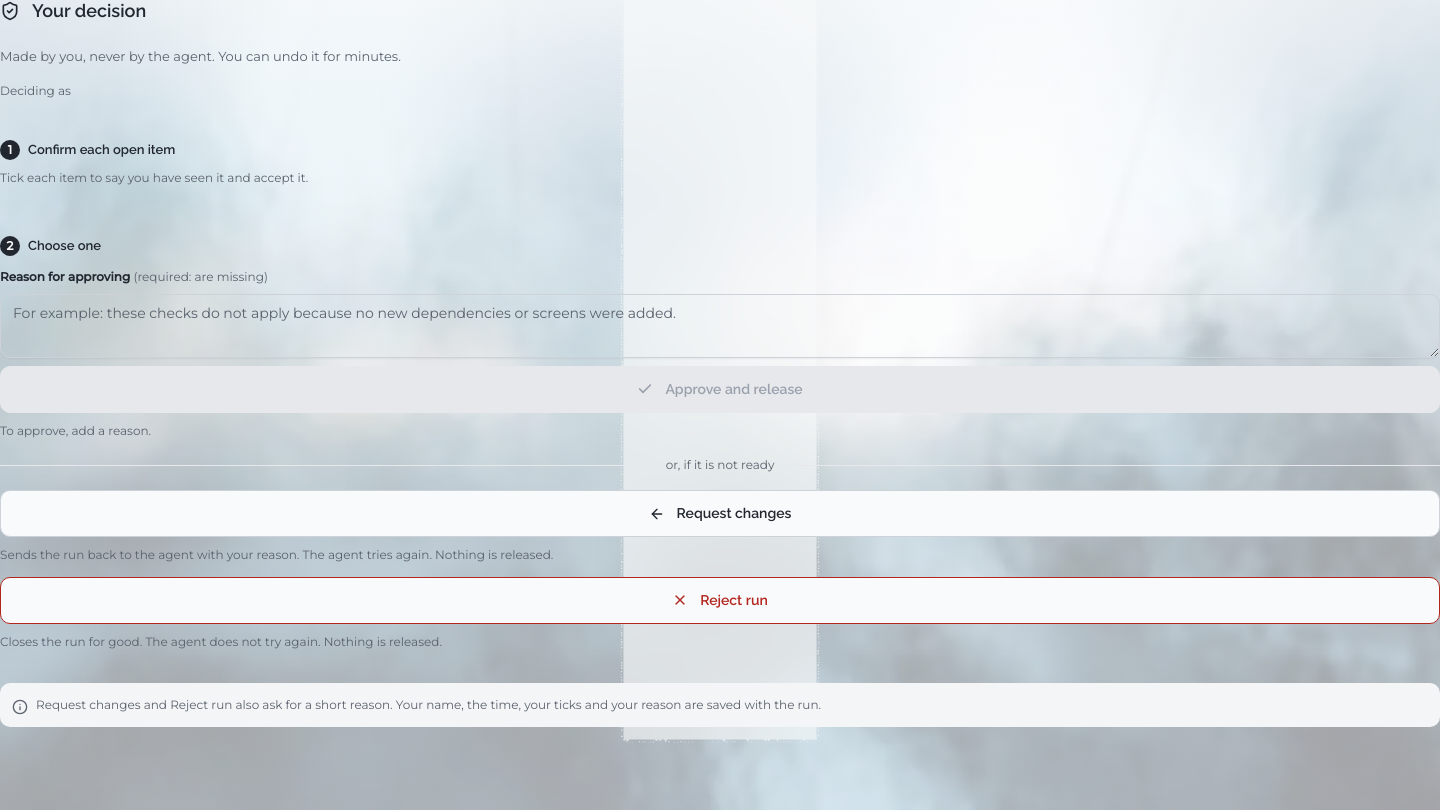
Scenario: DecisionPanel › opens the reason dialog for Request changes and Reject run
// Each confirmation opens a beat after the click, behind the icon's own pop (0090).
Step 1. Click the button "Request changes" → (720, 514), box [0,490,1439,537]
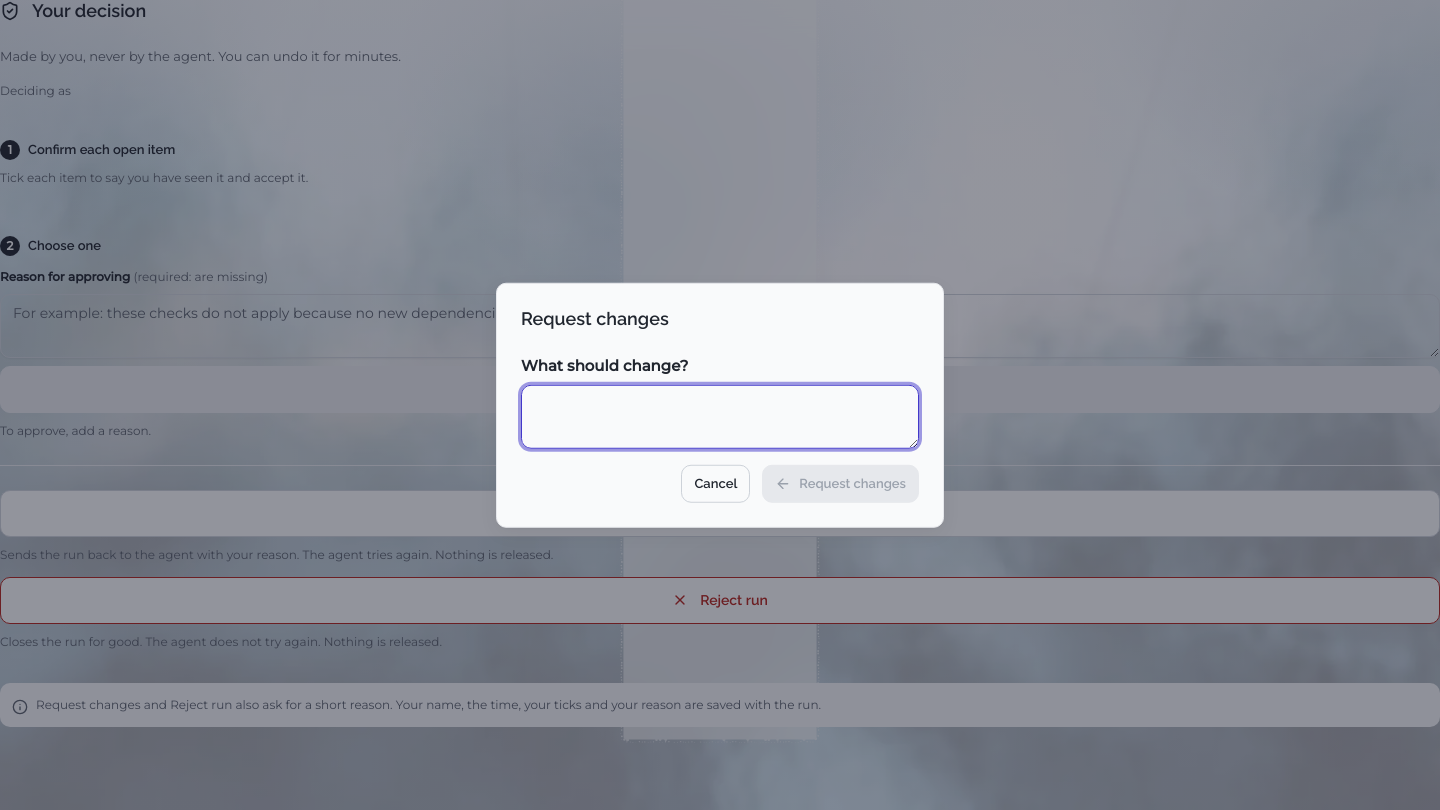
Expected: the text box labelled "What should change?" is shown, [521,385,919,449]
Step 2. Click the button "Cancel" → (716, 484), box [682,465,750,502]
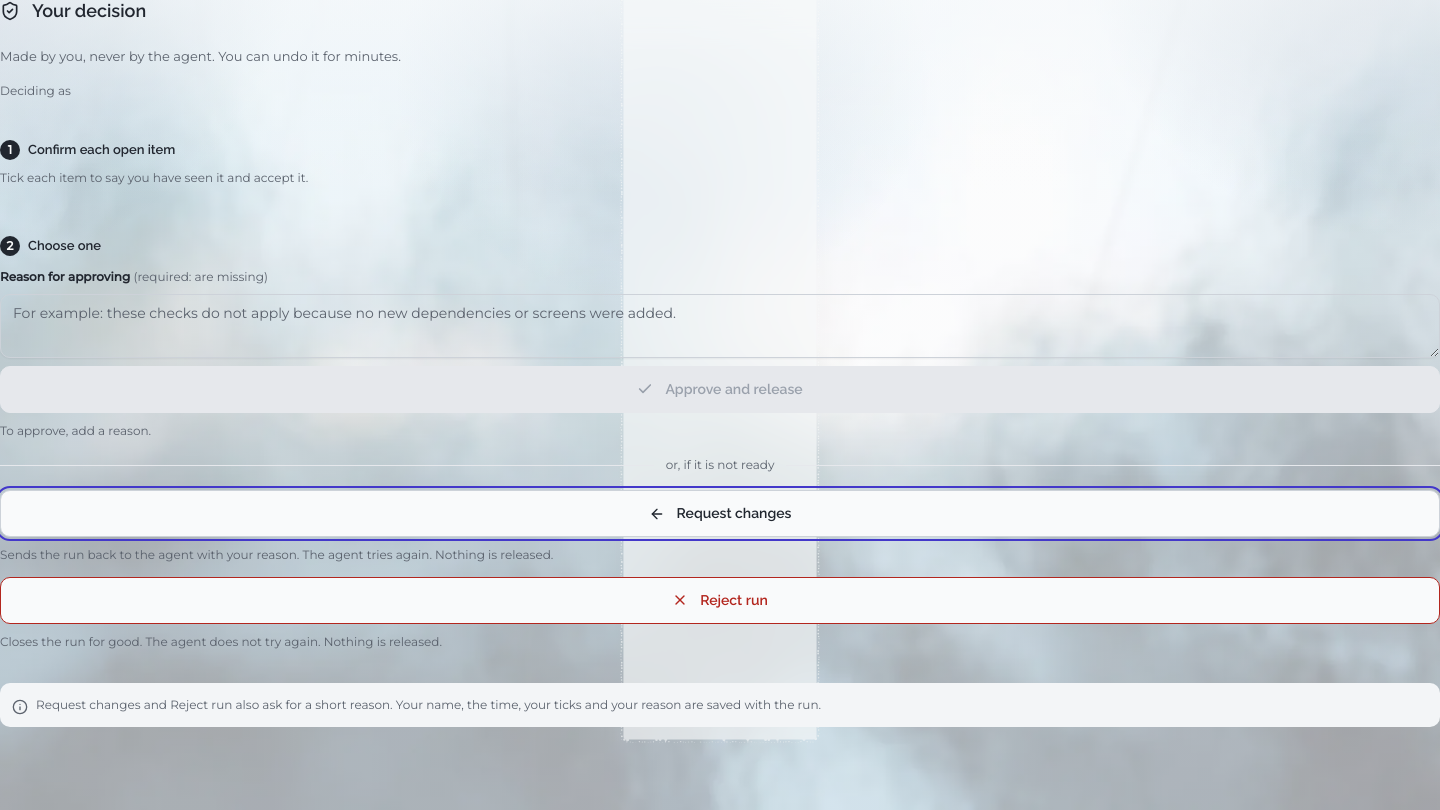
Step 3. Click the button "Reject run" → (720, 600), box [0,576,1439,624]
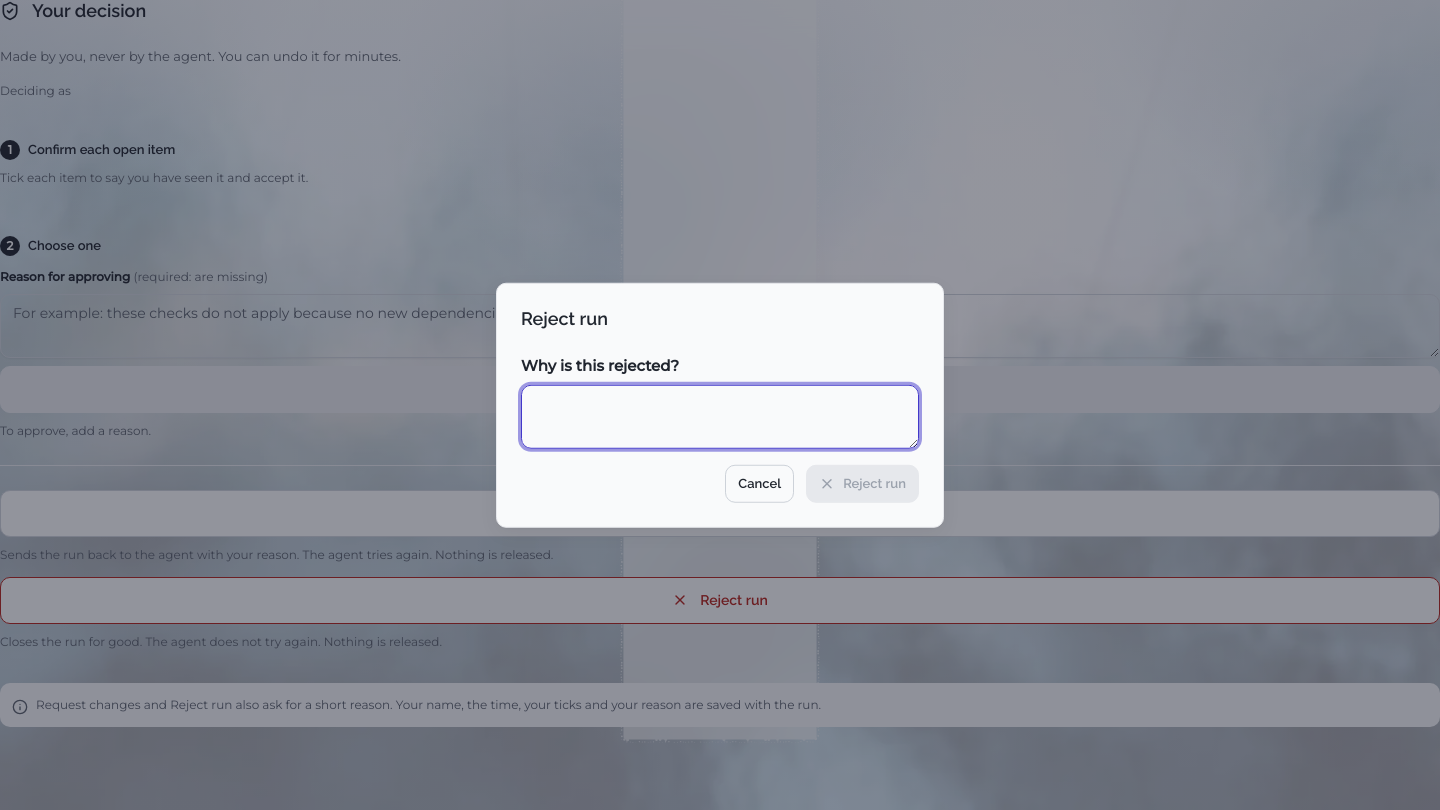
Expected: the text box labelled "Why is this rejected?" is shown, [521,385,919,449]
